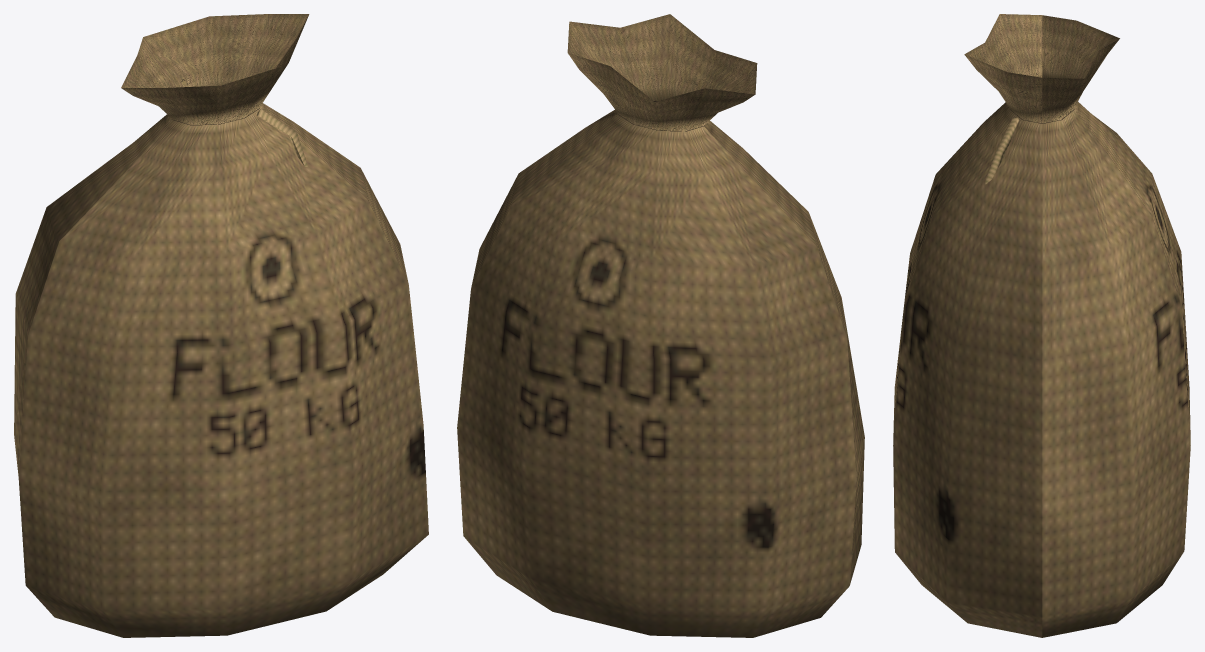
Rendered from sack_burlap.obj.
The picture shows the model from 3 angles, left to right: view 1: azimuth 30°, elevation 25°; view 2: azimuth 150°, elevation 25°; view 3: azimuth 270°, elevation 25°; orthographic projection. The views are drawn at different scales.
Visible parts, largest first — view 1: sack_burlap; view 2: sack_burlap; view 3: sack_burlap.
Boxes of the visible parts, x1,y1,x2,y2 form: sack_burlap: (14, 14, 428, 637); sack_burlap: (457, 14, 864, 637); sack_burlap: (893, 14, 1190, 637).
Bounding box in the file's own units: 0.5299 × 0.6929 × 0.3536.
1 material, 1 textured.
